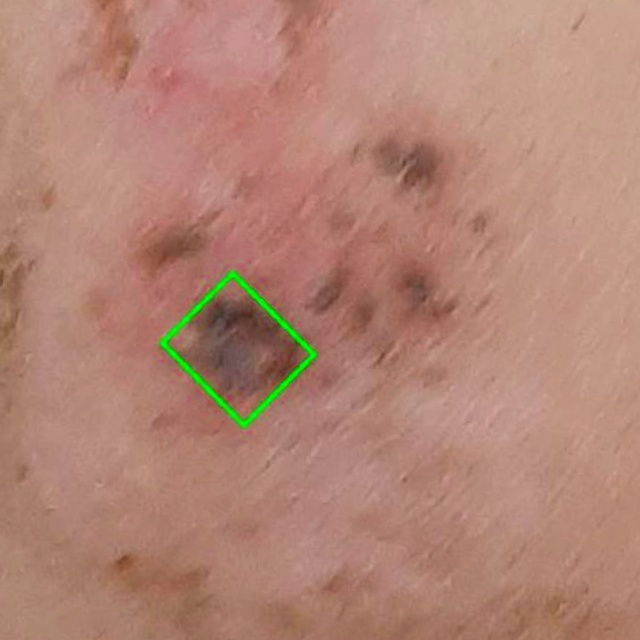Contact Dermatitis: (161, 273, 313, 425)
